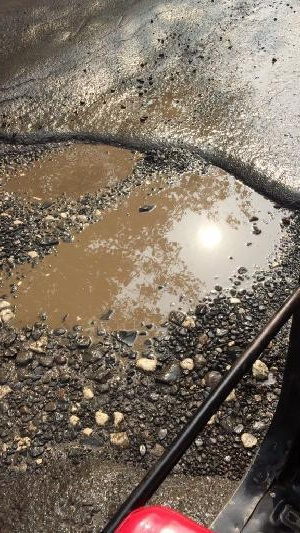pothole: (0, 128, 300, 364)
